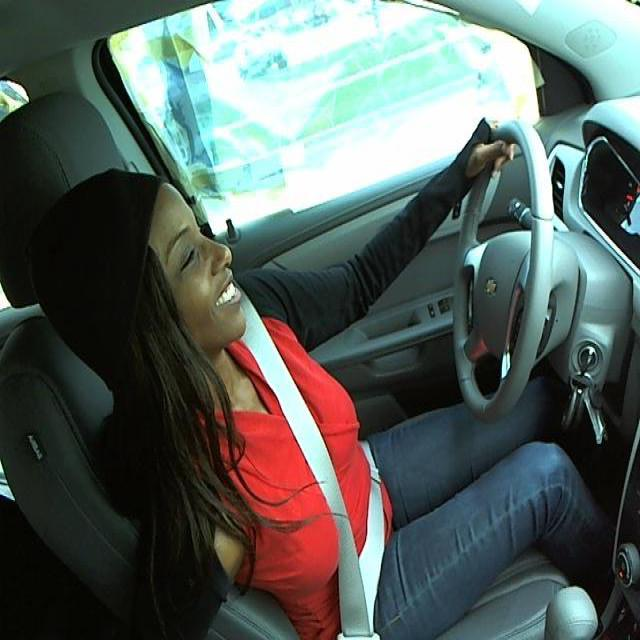seatbelt: (240, 344, 412, 604)
